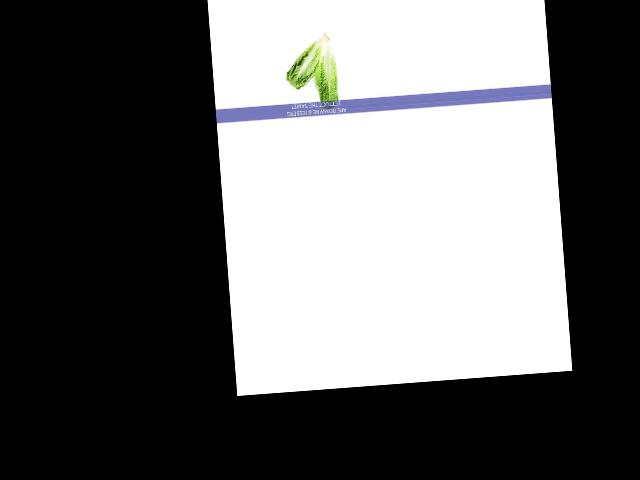lettuce: (285, 25, 333, 93)
